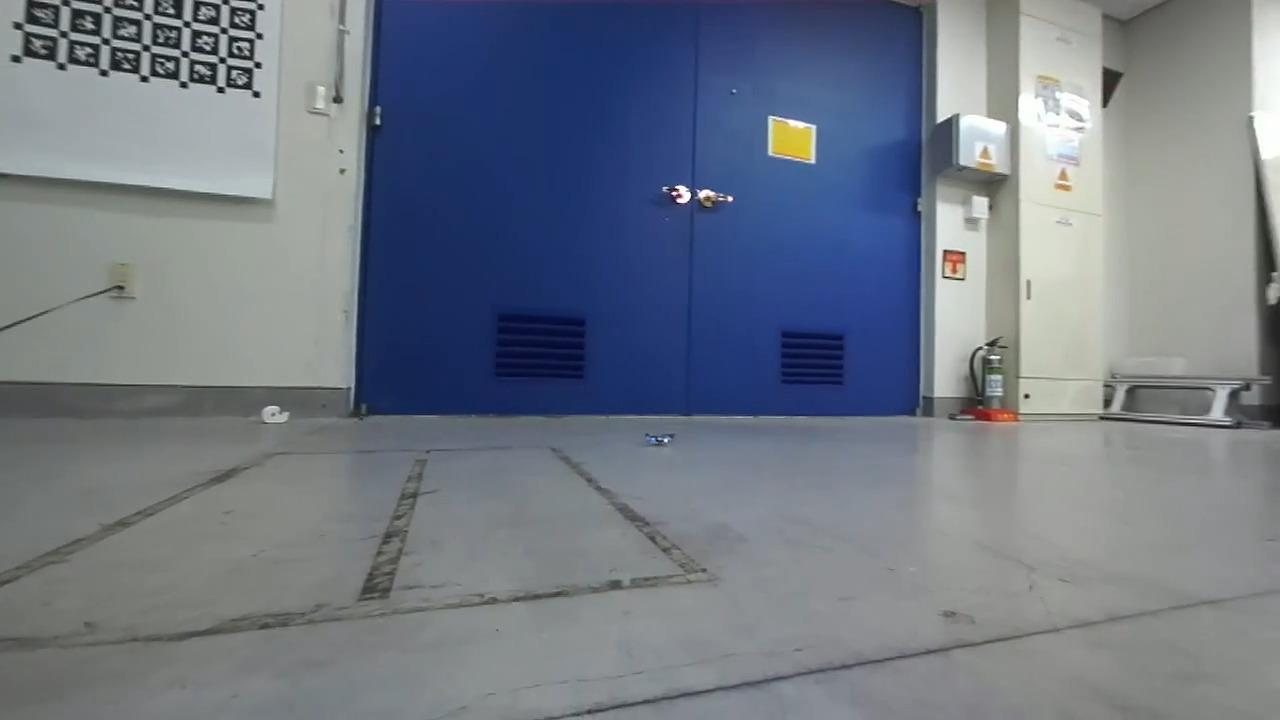crazyflie: (632, 422, 684, 453)
